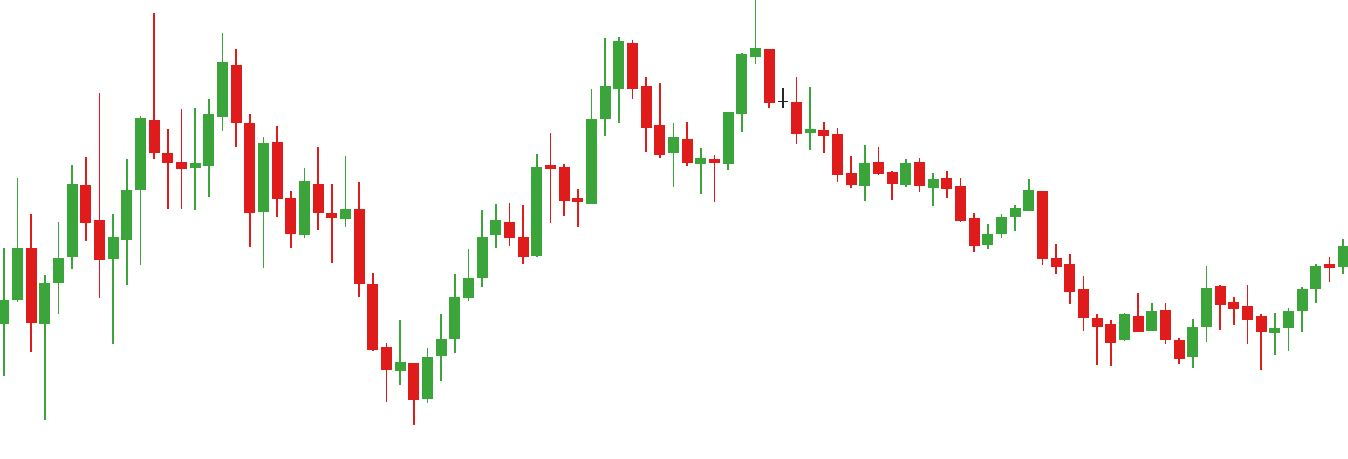sell: (596, 3, 761, 129)
